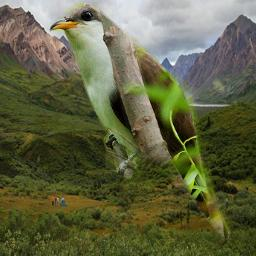Cuckoo: (43, 3, 241, 240)
